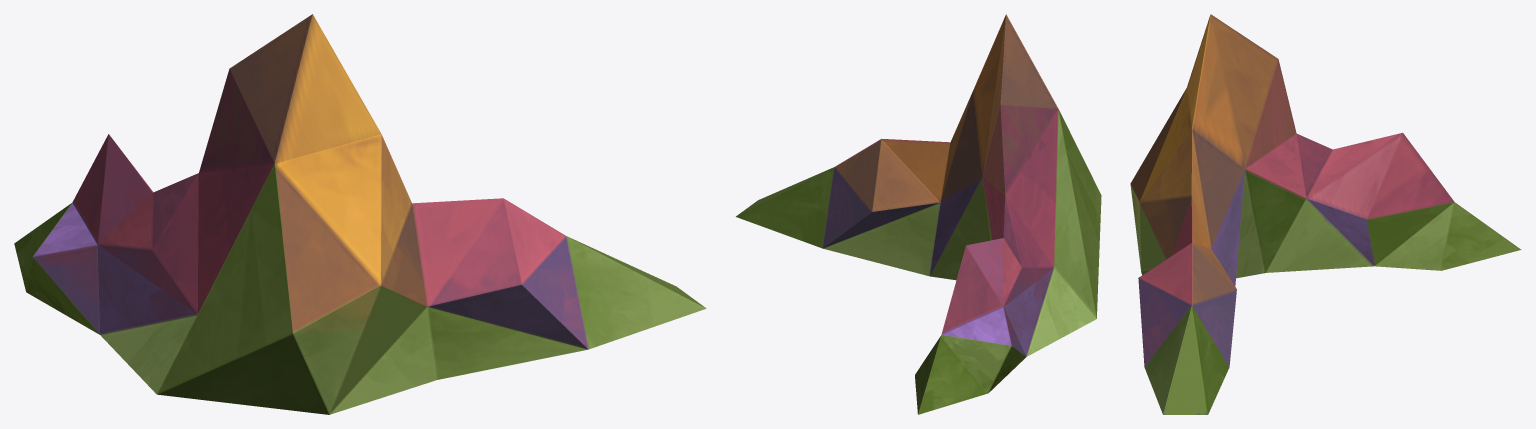
File: wall_corner_deco.fbx
The picture shows the model from 3 angles, left to right: view 1: azimuth 30°, elevation 25°; view 2: azimuth 150°, elevation 25°; view 3: azimuth 270°, elevation 25°; orthographic projection. The views are drawn at different scales.
Visible parts, largest first — view 1: wall_corner_deco; view 2: wall_corner_deco; view 3: wall_corner_deco.
Boxes of the visible parts, left/top/right/bottom form: wall_corner_deco: left=14, top=14, right=706, bottom=414; wall_corner_deco: left=736, top=14, right=1101, bottom=414; wall_corner_deco: left=1130, top=14, right=1521, bottom=414.
Size of the model in its own units: 4.49 by 3.05 by 4.02.
